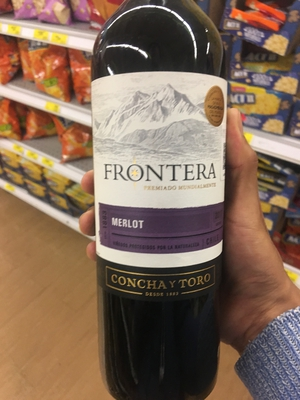frontera merlot: (80, 16, 260, 399)
